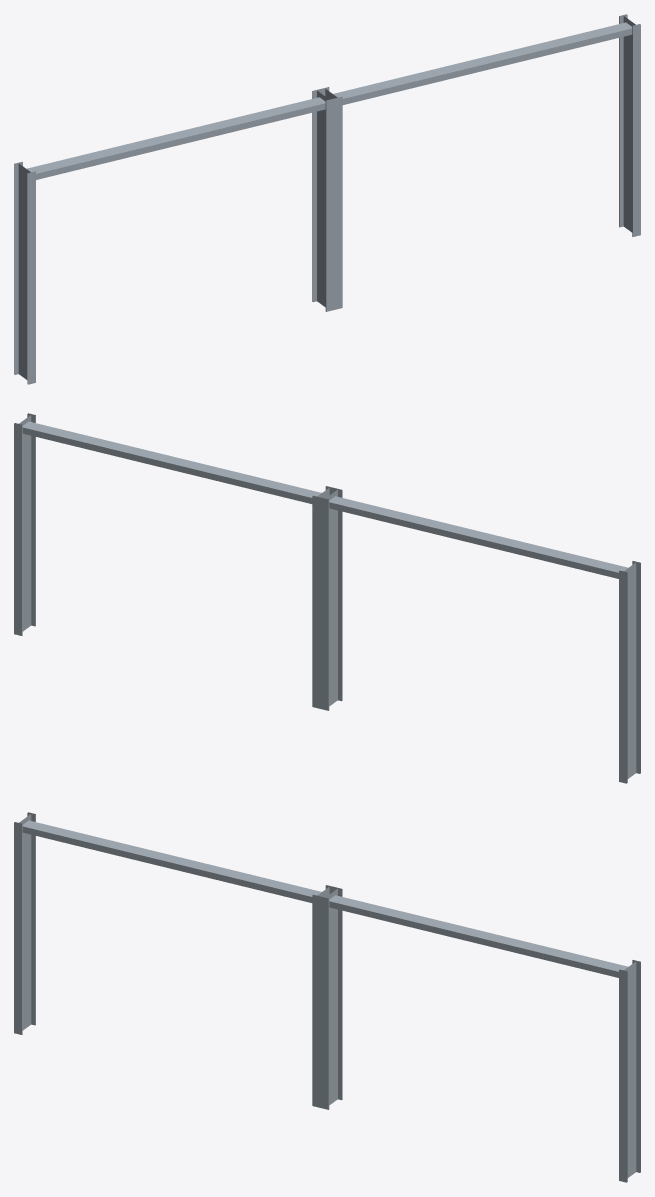
Rendered from SM06_Building_Structure_Wall_Top_02_Default.fbx.
3 views of the same model, one above another, from view 1: azimuth 30°, elevation 25°; view 2: azimuth 150°, elevation 25°; view 3: azimuth 330°, elevation 25° (orthographic).
Parts seen in each view (by area): view 1: SM06_Building_Structure_Wall_Top_02_Default; view 2: SM06_Building_Structure_Wall_Top_02_Default; view 3: SM06_Building_Structure_Wall_Top_02_Default.
Part boxes in pixels (box(x1,y1,x2,y2)): SM06_Building_Structure_Wall_Top_02_Default: box(14, 14, 640, 384); SM06_Building_Structure_Wall_Top_02_Default: box(14, 413, 640, 783); SM06_Building_Structure_Wall_Top_02_Default: box(14, 812, 640, 1182).
Bounding box in the file's own units: 15 × 4.93 × 0.59.
